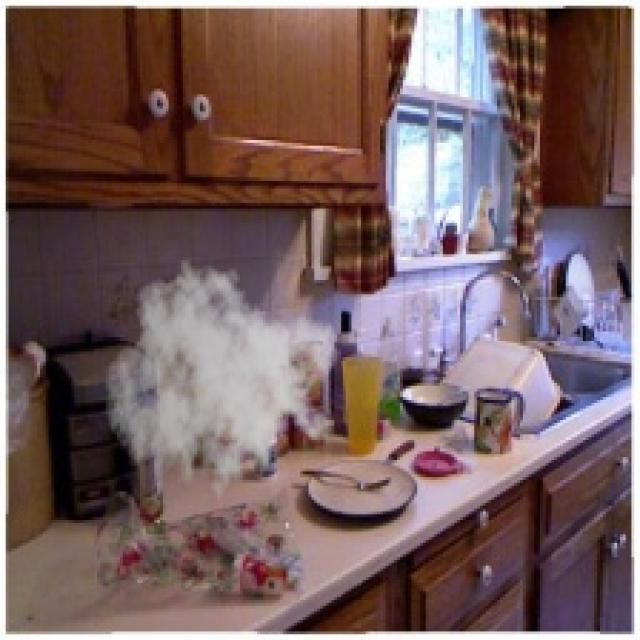Smoke: (103, 257, 340, 514)
